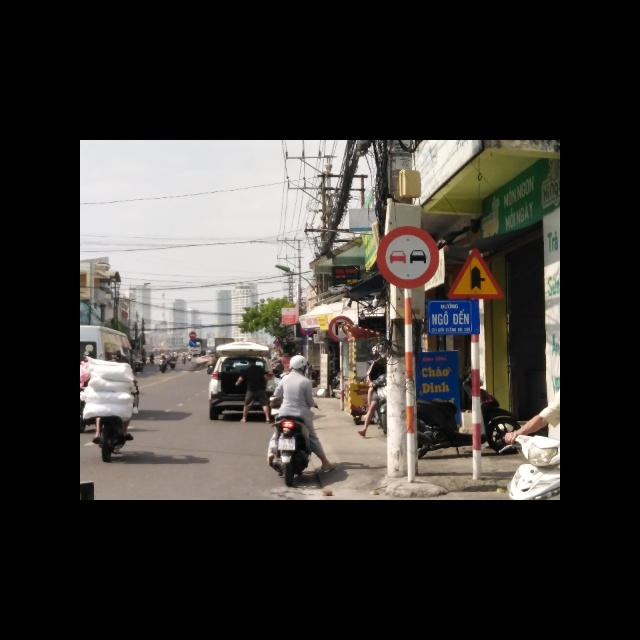Cấm vượt: (376, 225, 441, 290)
Giao nhau với đường không ưu tiên: (447, 245, 505, 301)
